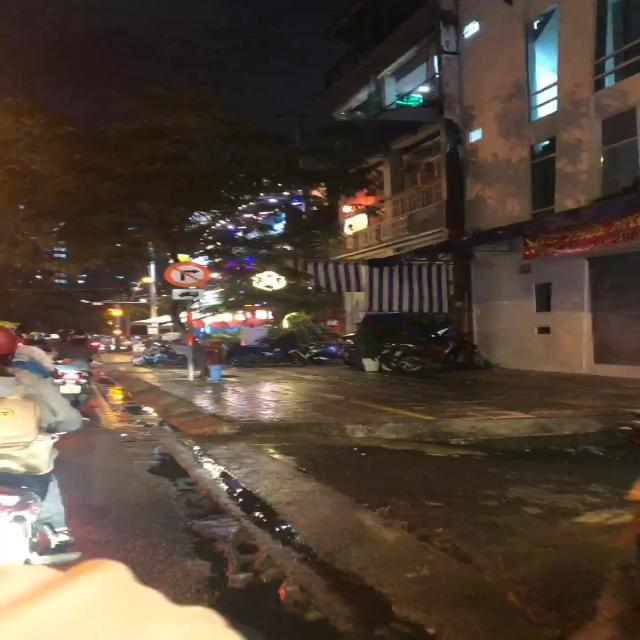Bien bao cam re phai: (161, 256, 217, 288)
